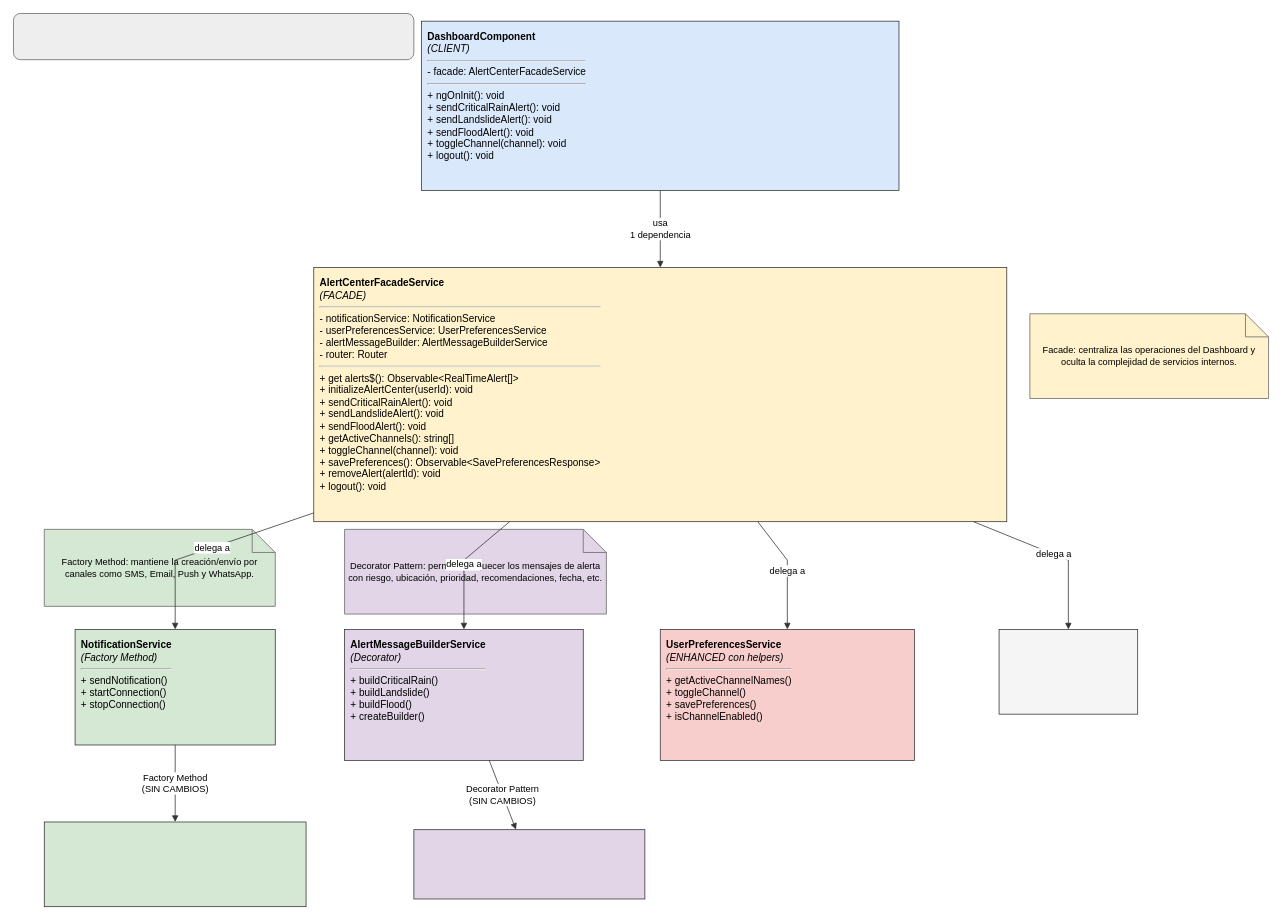
Image size: 1282x920. Some labels were removed from this diagram. Here are the shapes that lost their labels. From the top down, the box of each, then its label:
(13, 13, 414, 60): Patrones aplicados: Facade + Factory Method + Decorator
(998, 629, 1138, 714): Router + navigate
(44, 821, 306, 907): Channels (SMS, Email, Push, WhatsApp) via NotificationChannelCreator
(413, 829, 645, 899): Decorators (RiskLevel, Location, etc)
